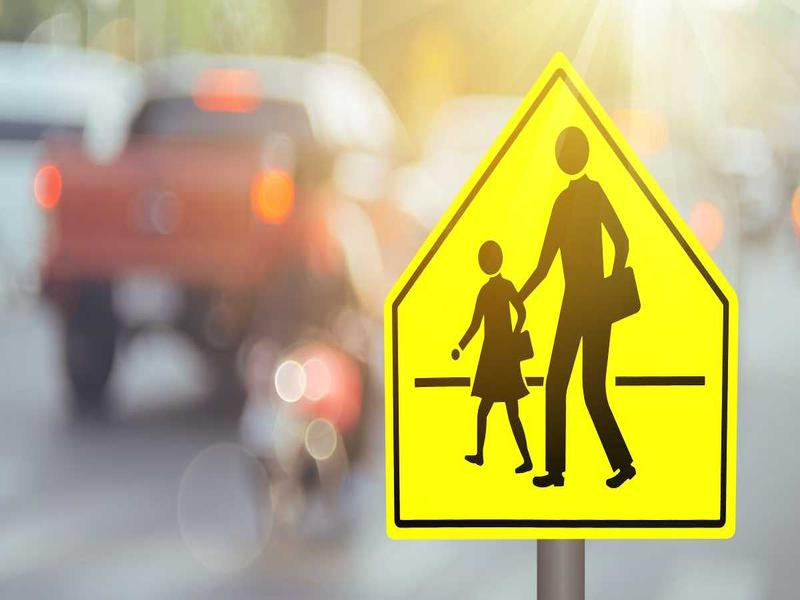slow: (368, 43, 747, 551)
